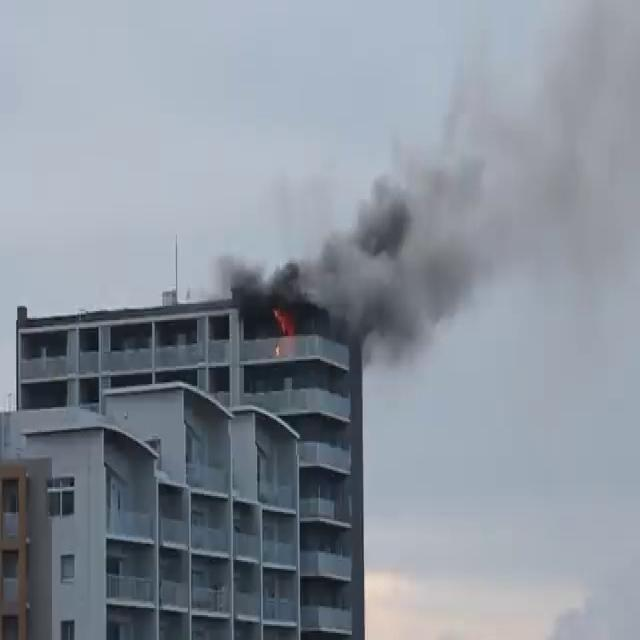Fire: (269, 304, 301, 356)
Smoke: (209, 2, 640, 364)
